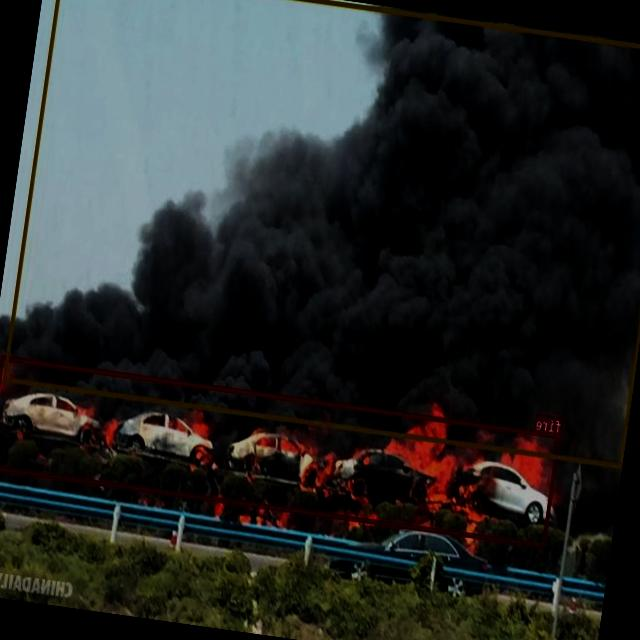fire: (0, 355, 561, 547)
smoke: (3, 0, 640, 468)
